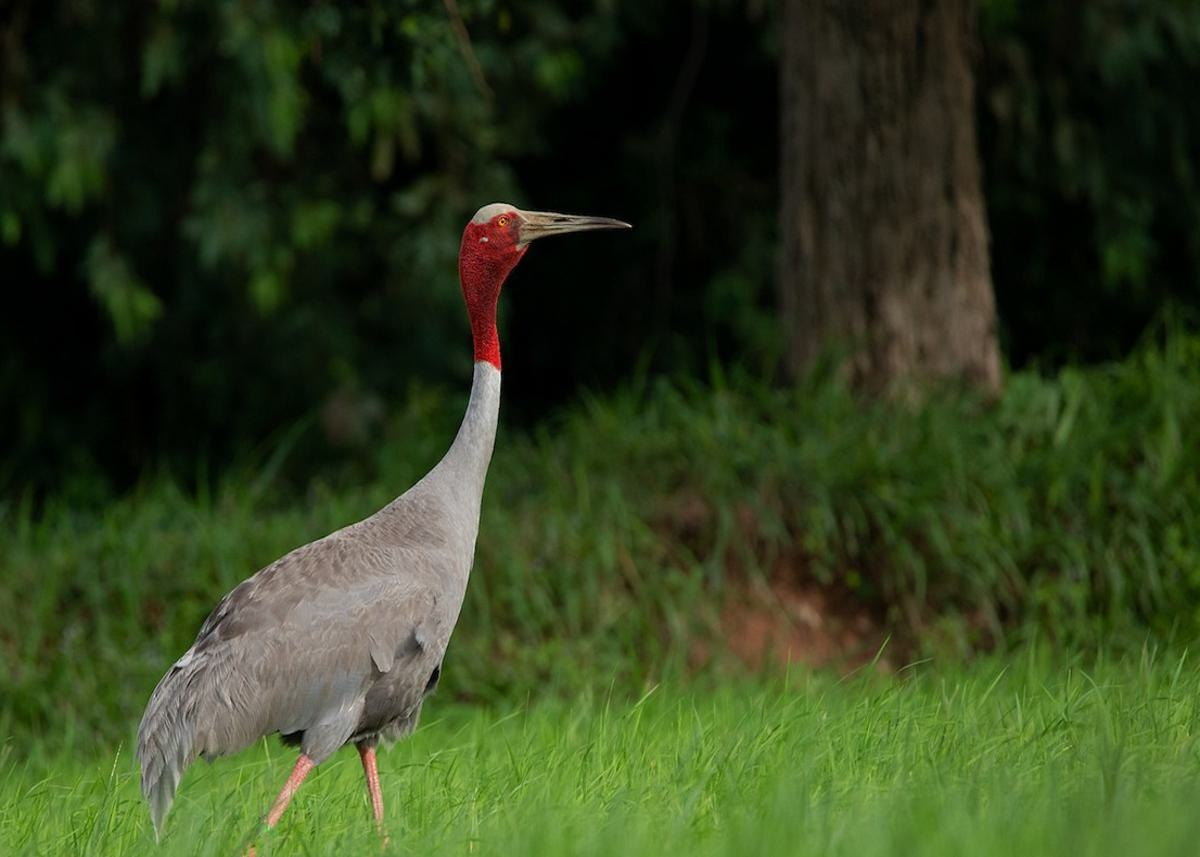crane: (127, 186, 645, 826)
